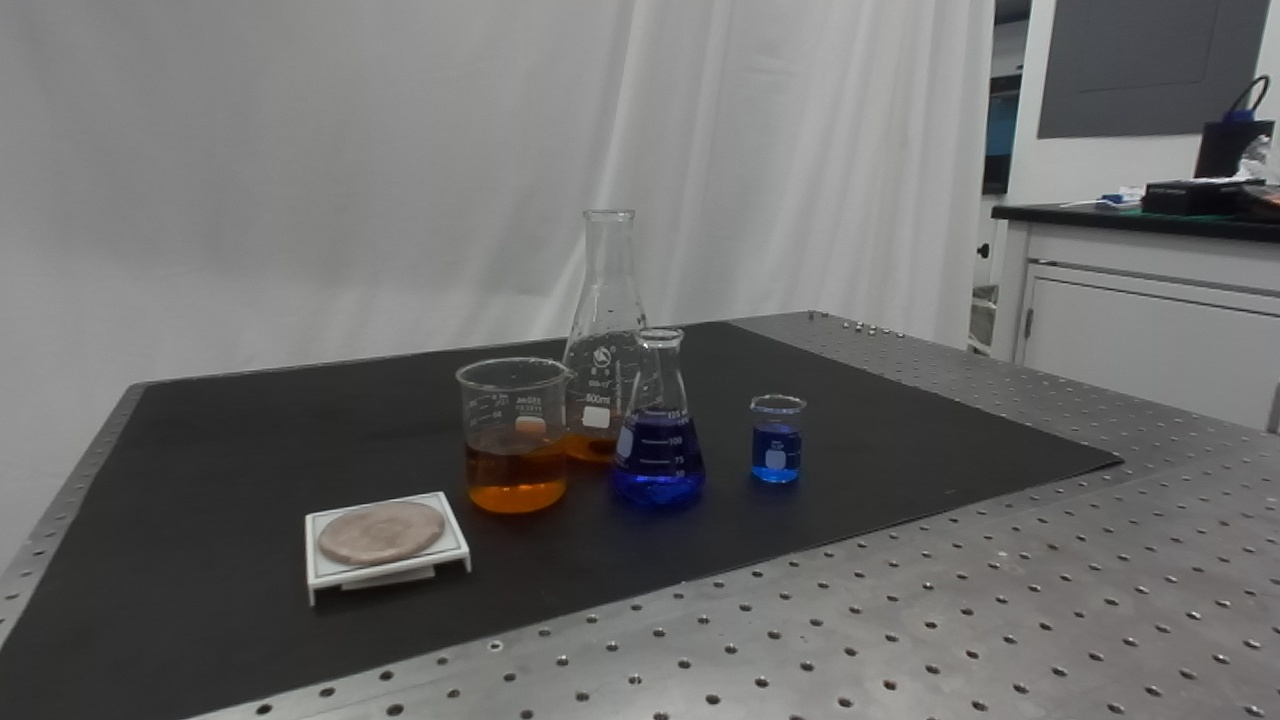glass: (547, 200, 671, 465), (450, 356, 575, 518), (609, 325, 709, 507), (747, 391, 808, 490)
plate: (294, 489, 471, 607)
